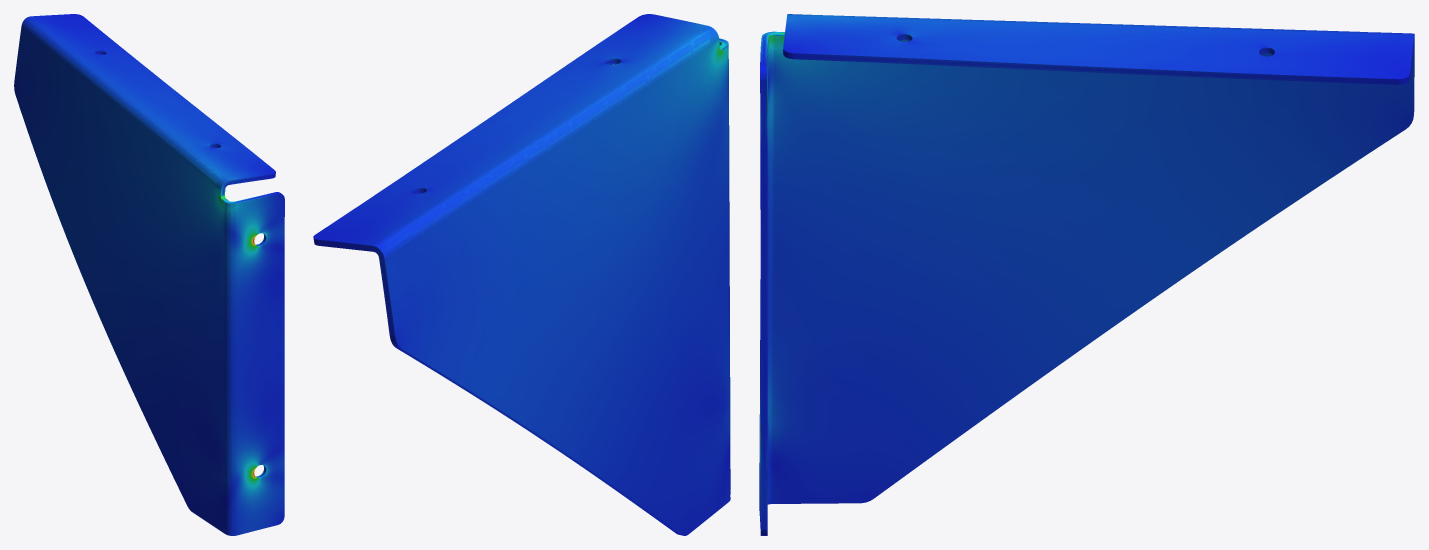
The model's file is result.glb.
3 renders of one model, left to right at view 1: azimuth 30°, elevation 25°; view 2: azimuth 150°, elevation 25°; view 3: azimuth 270°, elevation 25°, orthographic. The views are drawn at different scales.
Parts seen in each view (by area): view 1: shelf_bracket von Mises; view 2: shelf_bracket von Mises; view 3: shelf_bracket von Mises.
Boxes of the visible parts, box(x1,y1,x2,y2) form: shelf_bracket von Mises: box(14, 14, 284, 535); shelf_bracket von Mises: box(313, 14, 730, 535); shelf_bracket von Mises: box(759, 14, 1414, 535).
Bounding box in the file's own units: 0.0375 × 0.15 × 0.1809.
Materials: 1 (1 with a texture image).
